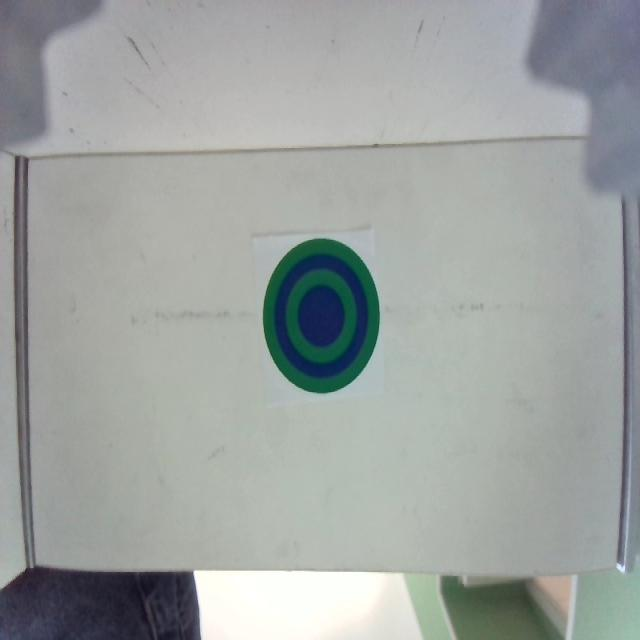cogn: (263, 236, 380, 394)
